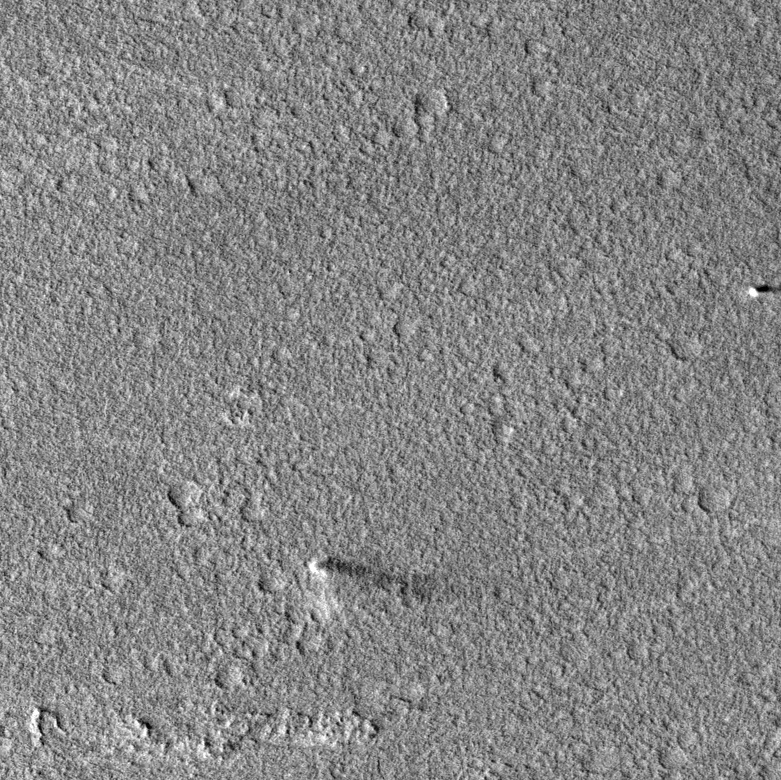dust_devil: (306, 553, 443, 619), (747, 282, 781, 299)
